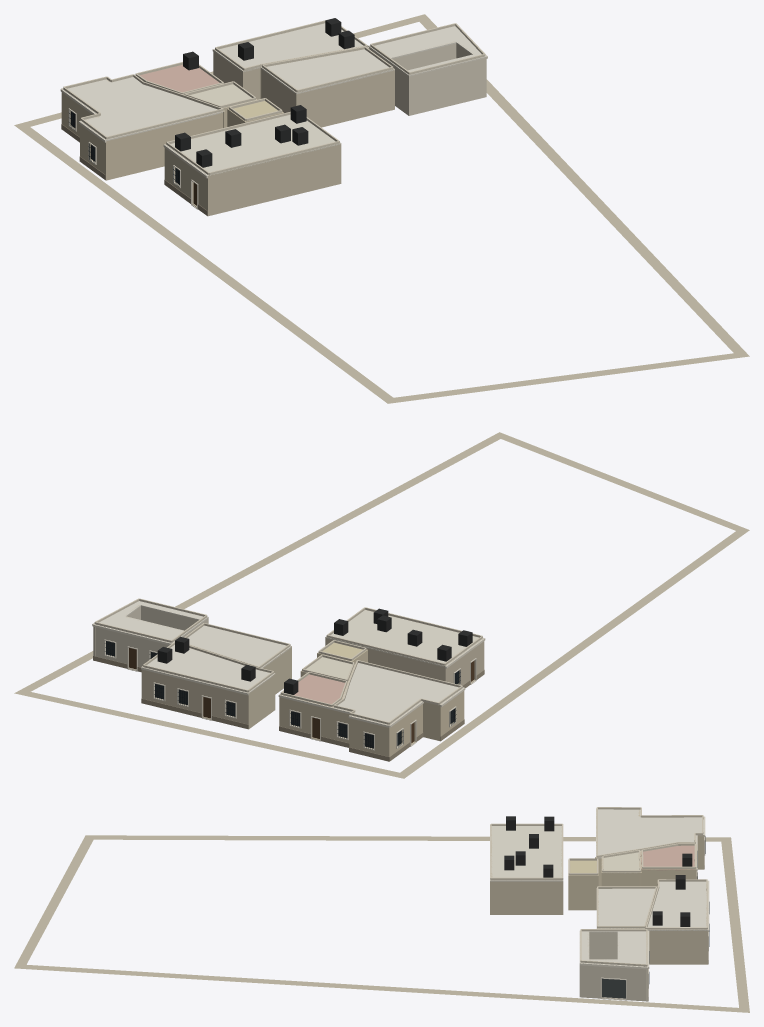
The picture shows the model from 3 angles, top to bottom: view 1: azimuth 30°, elevation 25°; view 2: azimuth 150°, elevation 25°; view 3: azimuth 270°, elevation 25°; orthographic projection. The views are drawn at different scales.
Visible parts, largest first — view 1: edificio; view 2: edificio; view 3: edificio.
Boxes of the visible parts, left/top/right/bottom form: edificio: left=14, top=14, right=749, bottom=403; edificio: left=14, top=432, right=749, bottom=778; edificio: left=14, top=807, right=749, bottom=1012.
Bounding box in the file's own units: 44.14 × 5.2 × 77.31.
